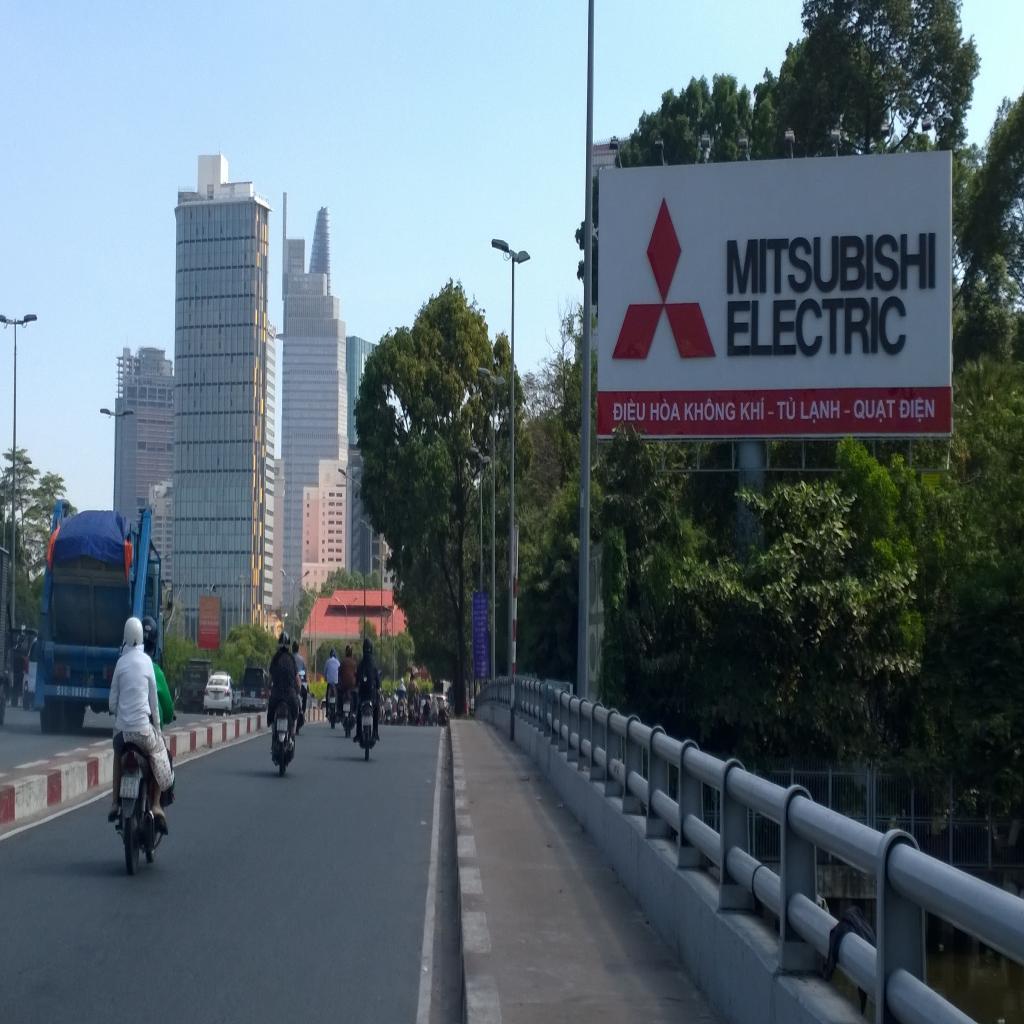text: (726, 230, 937, 296), (726, 294, 908, 358), (684, 396, 736, 422), (853, 397, 896, 426), (800, 398, 841, 426), (898, 395, 936, 425), (612, 398, 646, 424), (649, 397, 682, 423), (740, 396, 766, 424), (56, 683, 91, 700), (776, 394, 796, 423), (120, 785, 138, 798), (122, 777, 138, 789)
